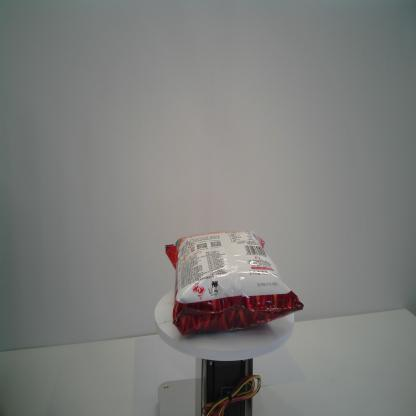Puffed Food: (164, 230, 305, 337)
